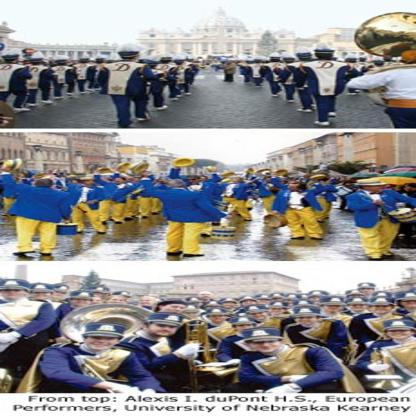face: (88, 333, 120, 351), (149, 320, 178, 337), (250, 338, 279, 353), (388, 327, 412, 340), (3, 288, 25, 300), (164, 305, 187, 316), (33, 289, 51, 300), (236, 323, 254, 334), (298, 315, 317, 325), (325, 303, 342, 313), (249, 312, 267, 321), (373, 304, 391, 313), (108, 299, 127, 307), (73, 299, 91, 307), (350, 303, 366, 312), (52, 290, 67, 299), (310, 297, 326, 305), (212, 314, 226, 323), (359, 287, 374, 295), (403, 300, 416, 309), (242, 300, 256, 308), (369, 184, 385, 191), (141, 300, 155, 307), (184, 312, 198, 319), (223, 302, 237, 309), (271, 307, 285, 314), (350, 294, 364, 301), (290, 185, 302, 192), (91, 299, 102, 306), (201, 294, 213, 300), (190, 302, 202, 308), (258, 299, 270, 305), (274, 298, 286, 304), (405, 186, 415, 193), (188, 179, 199, 185), (85, 180, 95, 186), (345, 178, 355, 184), (116, 179, 125, 184), (134, 180, 142, 184), (236, 178, 243, 182)
